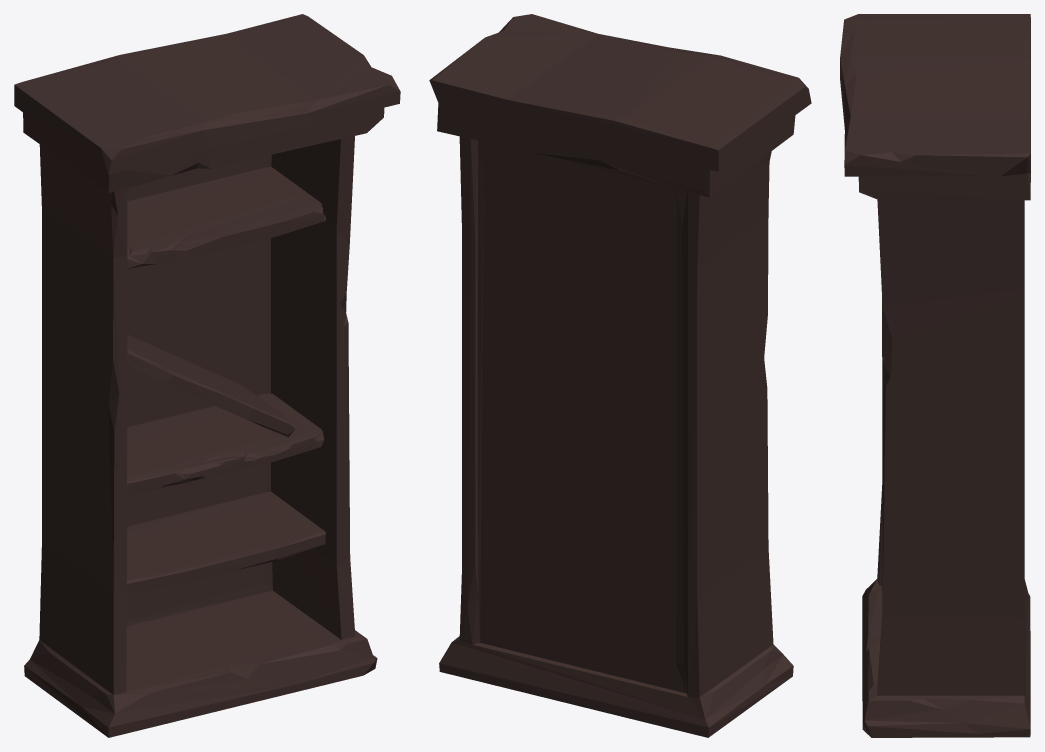
File: MDungeon_Bookcase_01.FBX
The picture shows the model from 3 angles, left to right: view 1: azimuth 30°, elevation 25°; view 2: azimuth 150°, elevation 25°; view 3: azimuth 270°, elevation 25°; orthographic projection.
Visible parts, largest first — view 1: MDungeon_Bookcase_01_LOD0; view 2: MDungeon_Bookcase_01_LOD0; view 3: MDungeon_Bookcase_01_LOD0.
Boxes of the visible parts, x1,y1,x2,y2 form: MDungeon_Bookcase_01_LOD0: [14, 14, 400, 737]; MDungeon_Bookcase_01_LOD0: [429, 14, 811, 737]; MDungeon_Bookcase_01_LOD0: [840, 14, 1030, 737].
Size of what is drawn, in the model's own units: 1.11 by 2.17 by 0.633.
Materials: 1 (1 with a texture image).
